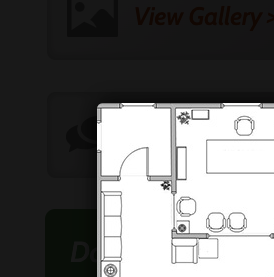door: (117, 144, 153, 184)
window: (115, 97, 161, 113), (219, 101, 268, 114)
